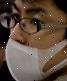with_mask: (2, 1, 67, 81)
